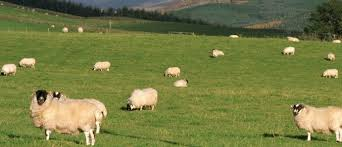sheep: (32, 89, 96, 147), (290, 103, 340, 147), (55, 83, 109, 119), (126, 85, 157, 119), (284, 31, 305, 49), (1, 64, 24, 79), (318, 62, 337, 79), (282, 45, 299, 61), (20, 55, 36, 72), (225, 30, 244, 44), (208, 48, 226, 62), (94, 61, 115, 73), (170, 80, 192, 91), (323, 51, 340, 65), (164, 67, 182, 80)
